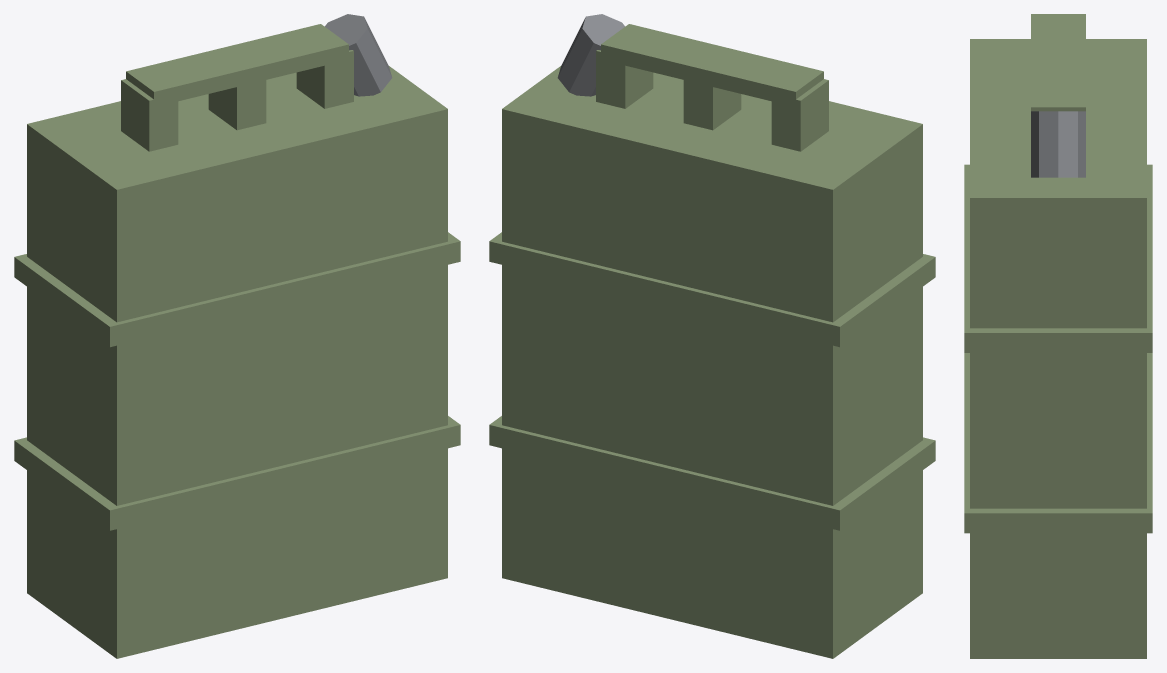
The model's file is galao.glb.
3 views of the same model, side by side, from view 1: azimuth 30°, elevation 25°; view 2: azimuth 150°, elevation 25°; view 3: azimuth 270°, elevation 25° (orthographic).
Parts seen in each view (by area): view 1: galao; view 2: galao; view 3: galao.
Boxes of the visible parts, box(x1,y1,x2,y2) form: galao: box(14, 14, 460, 658); galao: box(489, 14, 935, 658); galao: box(964, 14, 1152, 658).
Size of the model in its own units: 0.36 by 0.5278 by 0.17.
